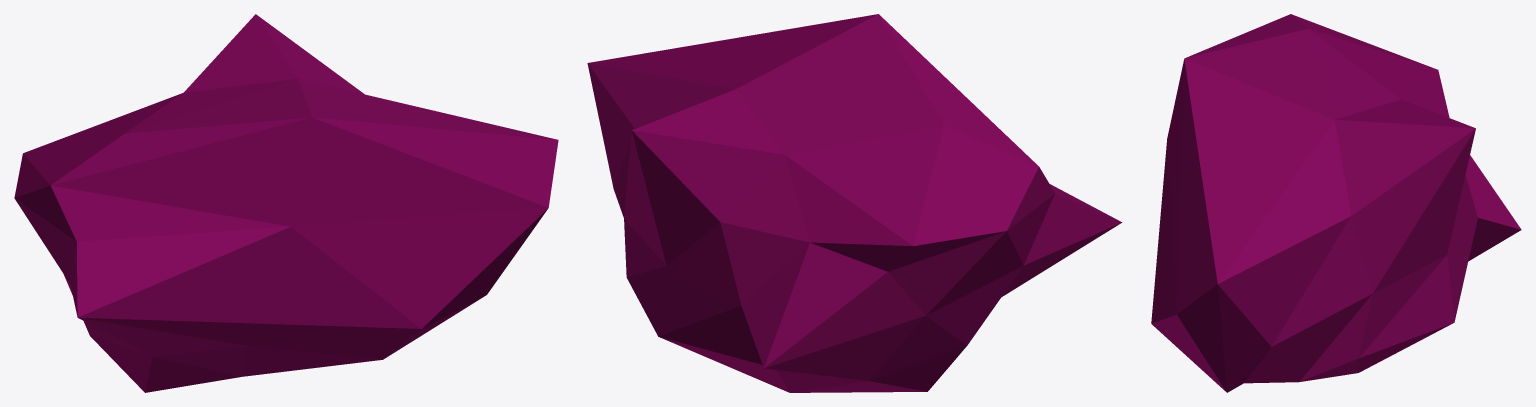
The model's file is Pulse_Cristal_1.fbx.
3 renders of one model, left to right at view 1: azimuth 30°, elevation 25°; view 2: azimuth 150°, elevation 25°; view 3: azimuth 270°, elevation 25°, orthographic. The views are drawn at different scales.
Parts seen in each view (by area): view 1: Pulse_Cristal_1; view 2: Pulse_Cristal_1; view 3: Pulse_Cristal_1.
Part boxes in pixels (x1,y1,x2,y2): Pulse_Cristal_1: (14, 14, 558, 392); Pulse_Cristal_1: (587, 14, 1122, 392); Pulse_Cristal_1: (1151, 14, 1521, 392).
Size of the model in its own units: 4.01 by 2.3 by 2.6.
